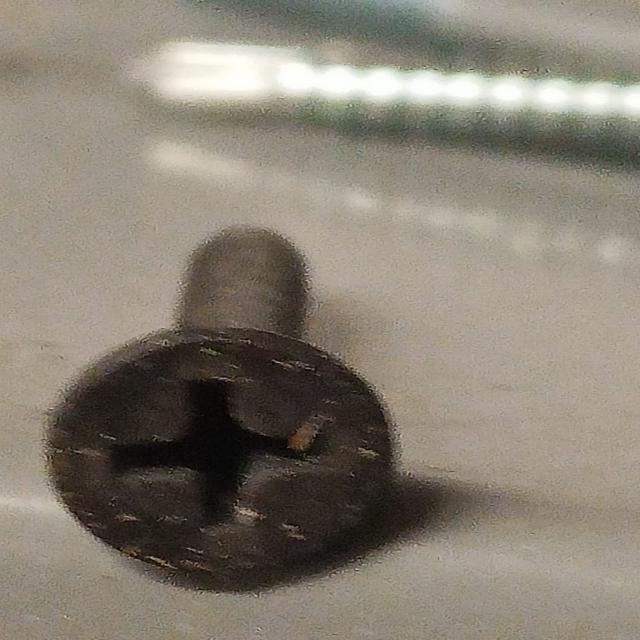phillips: (48, 324, 401, 584)
